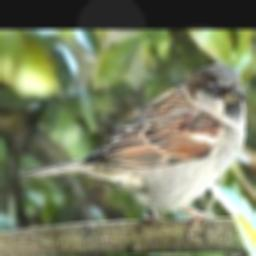Sparrow: (19, 63, 245, 236)
